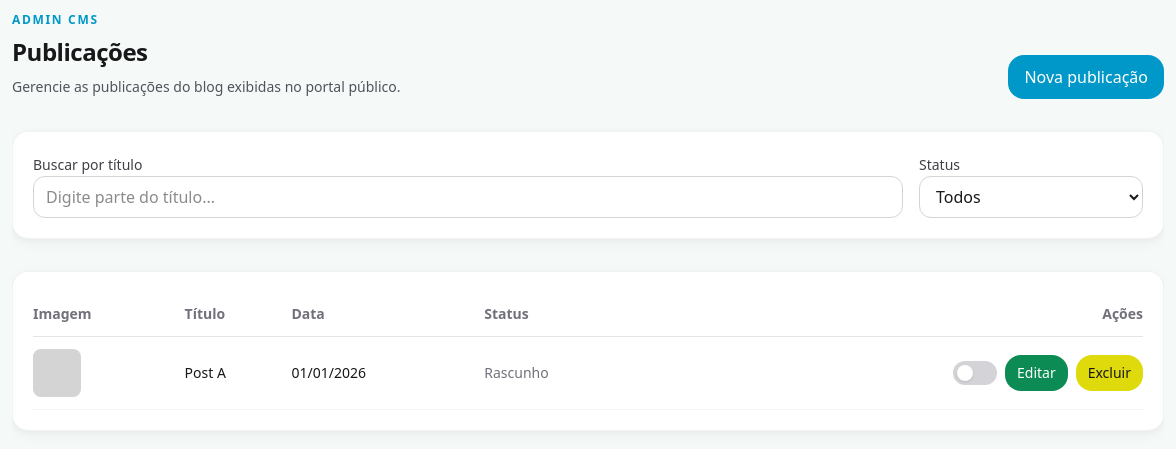
Test: AdminBlogPostsListPage › publica uma publicação ao clicar no toggle e atualiza a listagem local
Expected: the text "Post A" is shown, left=185, top=336, right=292, bottom=409
Click the switch named "Publicar" at {"x": 975, "y": 373}, box left=953, top=361, right=997, bottom=385
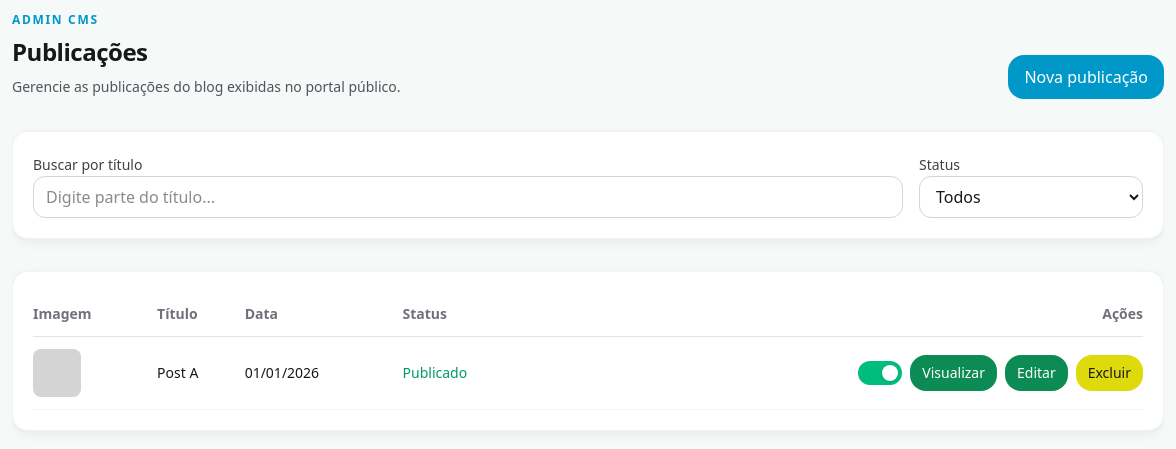
Expected: the cell "Publicado" is shown, left=402, top=336, right=540, bottom=409
